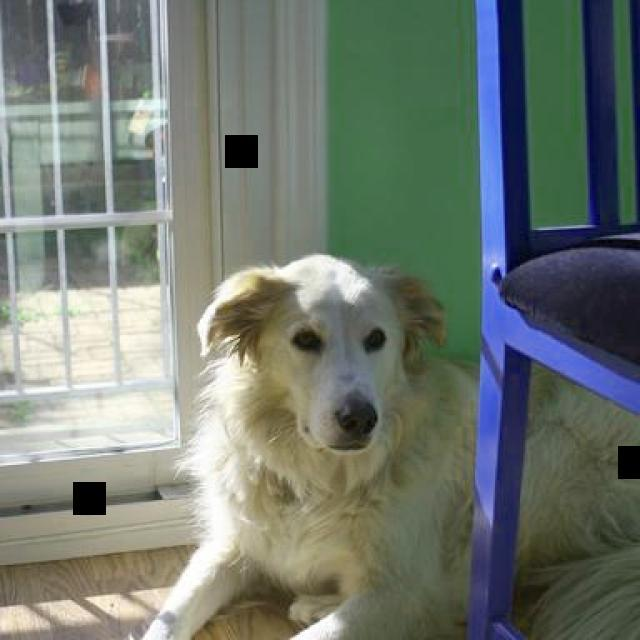adult_dog: (143, 251, 640, 640)
